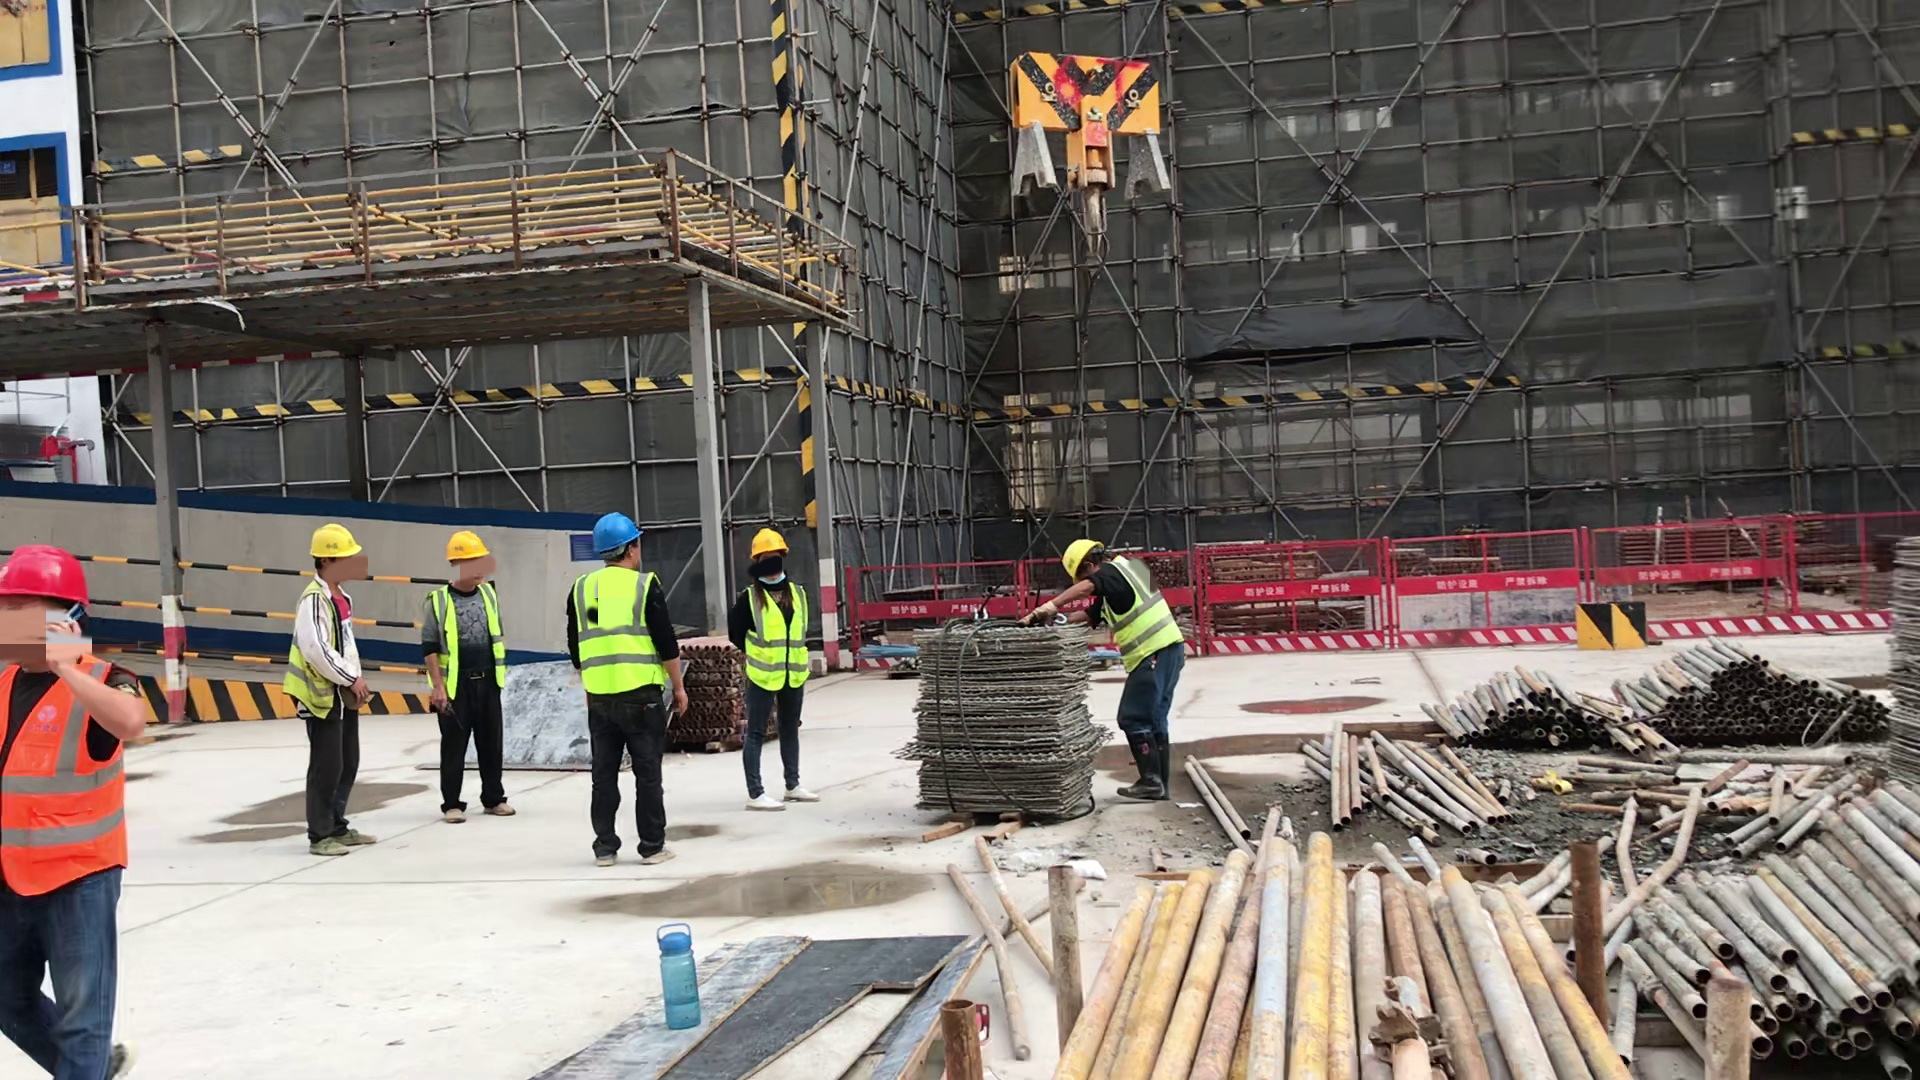fence: (1171, 511, 1920, 643), (859, 561, 1061, 653)
helmet: (1, 543, 89, 606), (593, 512, 644, 549), (1062, 538, 1104, 580), (311, 524, 362, 556), (447, 532, 489, 558), (751, 530, 789, 556)
hook: (1009, 51, 1170, 246)
person: (1, 542, 129, 1080), (569, 518, 683, 866), (1061, 538, 1175, 801), (289, 527, 371, 856), (427, 535, 517, 822), (738, 533, 820, 807)
scaffold: (1042, 841, 1638, 1080), (674, 634, 743, 750)
vest: (1, 660, 127, 893), (573, 570, 662, 695), (433, 588, 511, 697), (1100, 562, 1178, 666), (750, 585, 812, 687), (292, 622, 336, 723)
